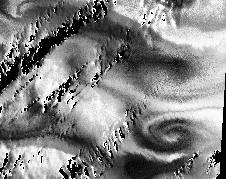CE: (143, 109, 210, 161)
